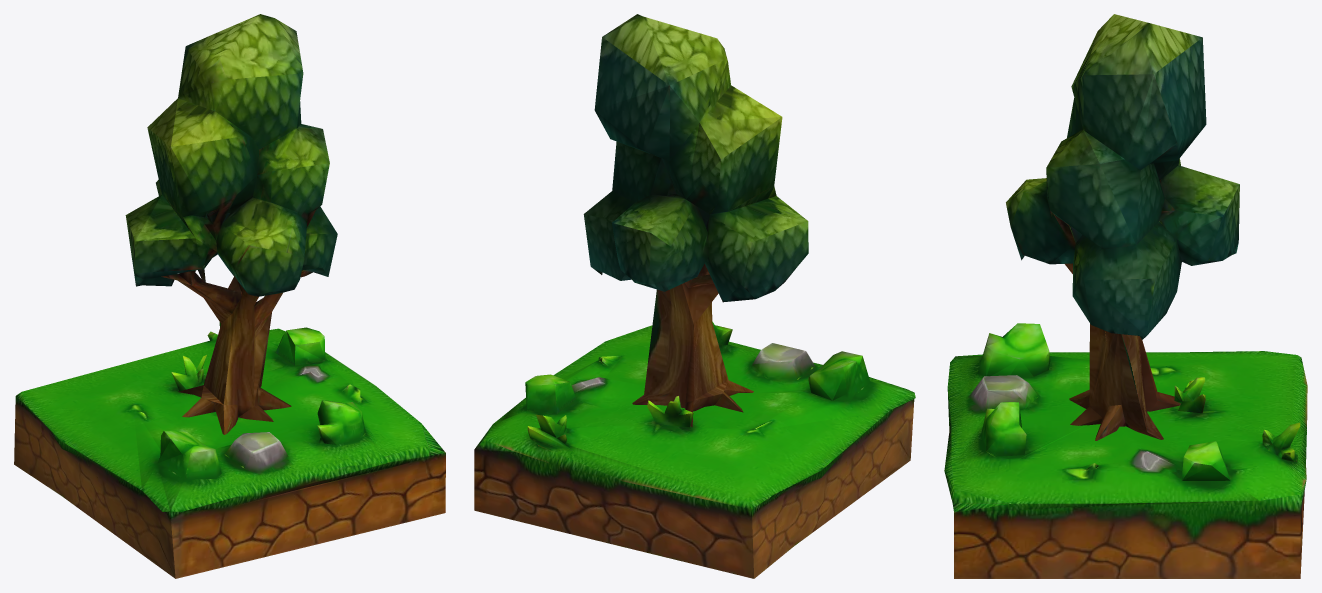
Rendered from veg_trees.glb.
The picture shows the model from 3 angles, left to right: view 1: azimuth 30°, elevation 25°; view 2: azimuth 150°, elevation 25°; view 3: azimuth 270°, elevation 25°; orthographic projection. The views are drawn at different scales.
Parts seen in each view (by area): view 1: Mesh_0.002; view 2: Mesh_0.002; view 3: Mesh_0.002.
Part boxes in pixels (bbox=[...]): Mesh_0.002: bbox=[14, 14, 445, 578]; Mesh_0.002: bbox=[474, 14, 915, 578]; Mesh_0.002: bbox=[944, 14, 1307, 578].
Size of the model in its own units: 1.87 by 2.84 by 1.85.
Materials: 2 (2 with a texture image).
